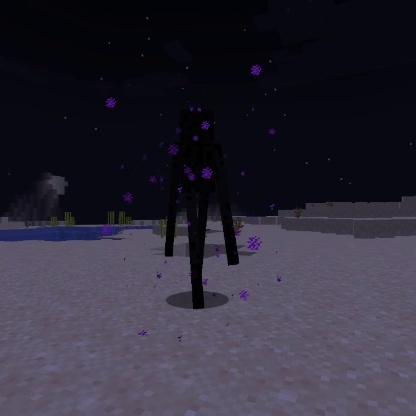enderman: (159, 105, 243, 313)
